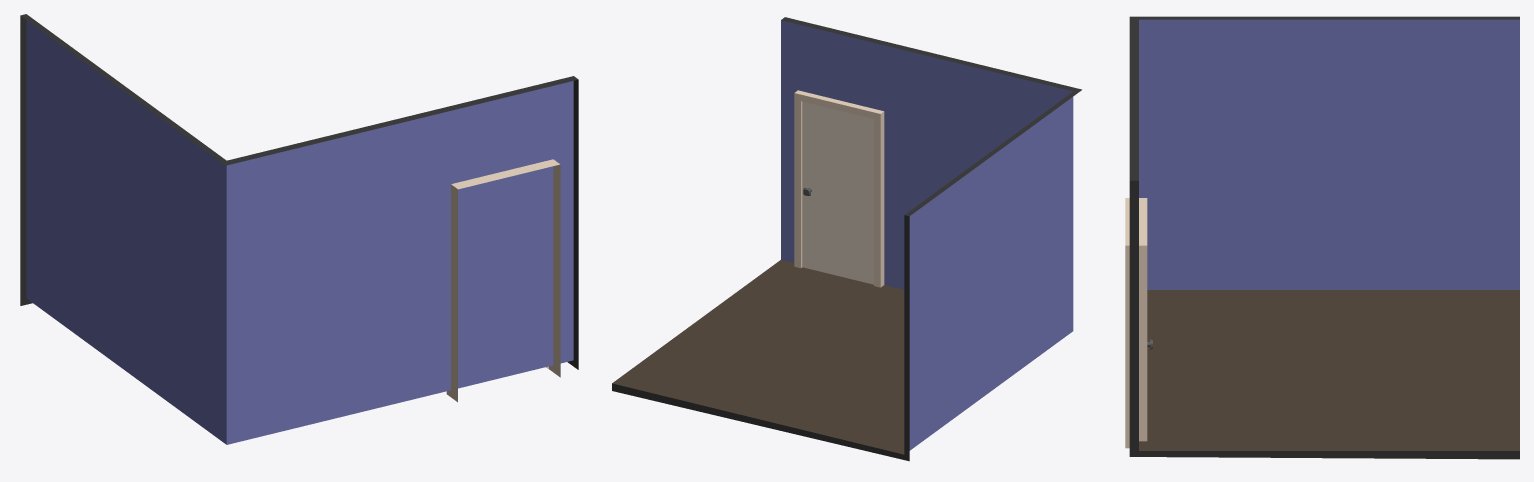
File: Room_2.fbx
The picture shows the model from 3 angles, left to right: view 1: azimuth 30°, elevation 25°; view 2: azimuth 150°, elevation 25°; view 3: azimuth 270°, elevation 25°; orthographic projection. The views are drawn at different scales.
Parts seen in each view (by area): view 1: Room_1.002; view 2: Room_1.002; view 3: Room_1.002.
Part boxes in pixels (x1,y1,x2,y2): Room_1.002: (20, 14, 578, 444); Room_1.002: (612, 17, 1081, 461); Room_1.002: (1125, 16, 1519, 459).
Bounding box in the file's own units: 4.21 × 3.38 × 4.26.
